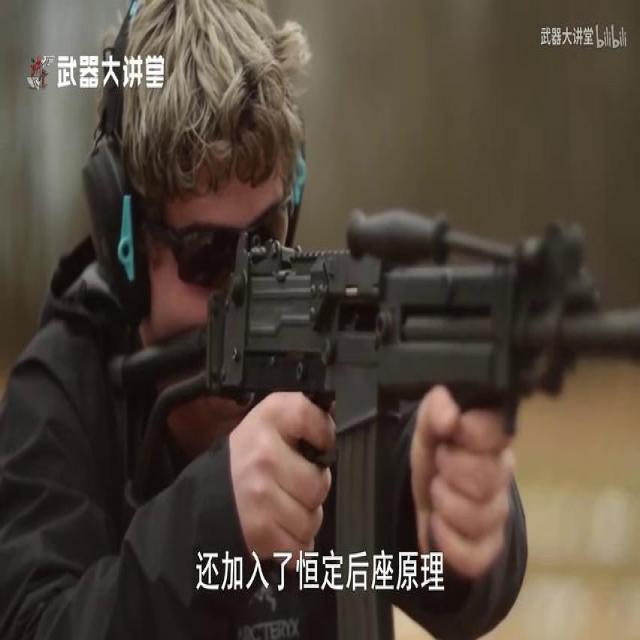Handgun: (92, 193, 640, 619)
